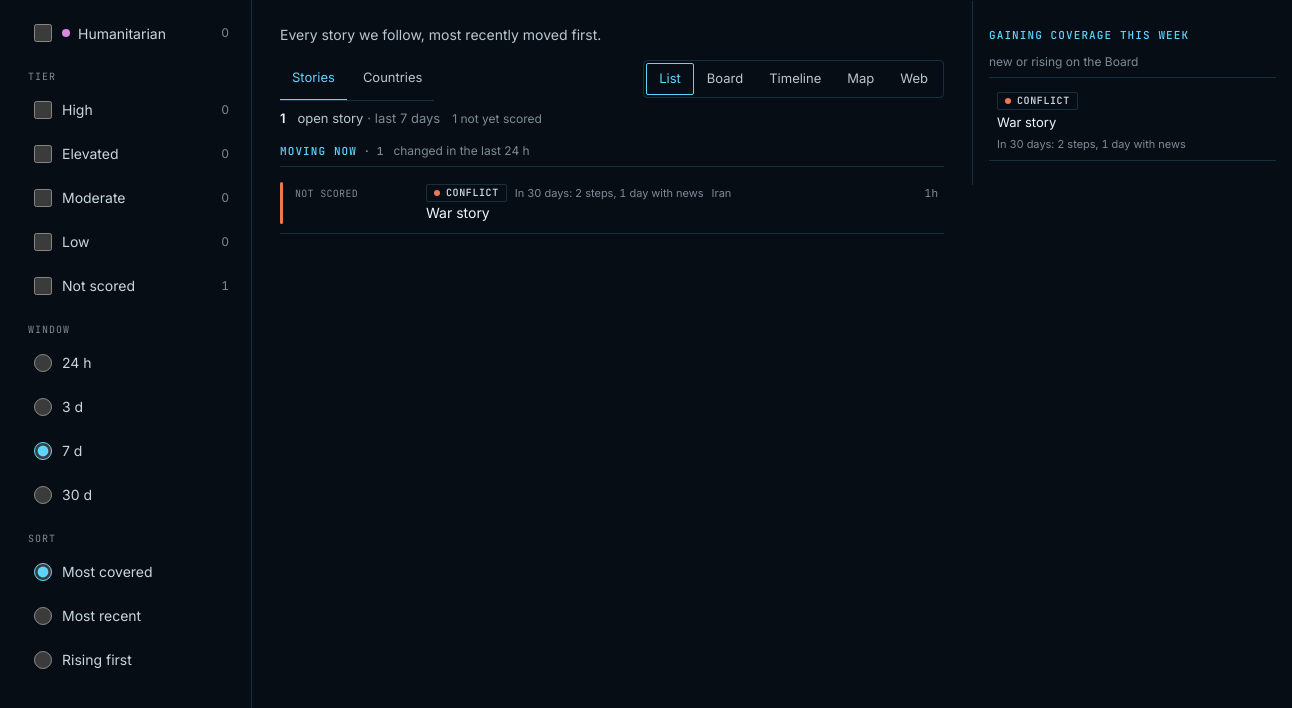
Test case: /weekly history › defaults are left out of the URL and the controls follow it
(page scrolled)
Step 1. Click the radio button labelled "30 d" → (43, 494), box [34,486,52,504]
(page scrolled)
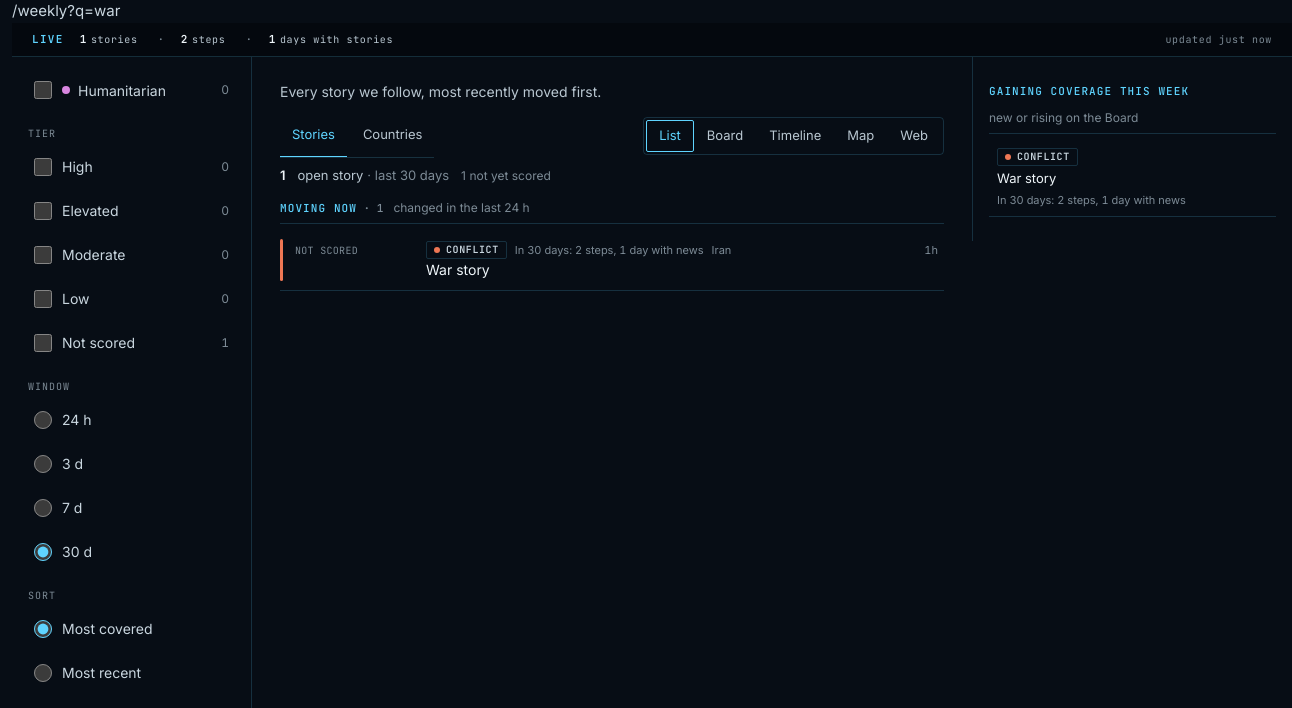
expect the text with test id "loc" reads "/weekly?q=war": met, box [12,1,120,20]
